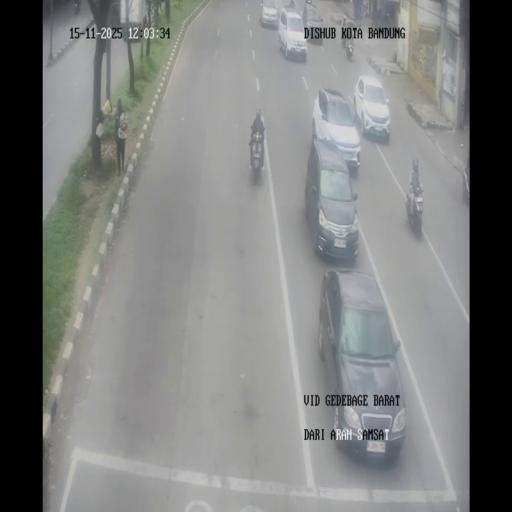car: (319, 269, 404, 459), (305, 136, 358, 262), (353, 74, 391, 142), (278, 4, 307, 62), (302, 2, 323, 42), (259, 0, 279, 27)
truck: (406, 168, 424, 236), (249, 125, 265, 179), (344, 36, 354, 62), (376, 4, 385, 26), (384, 8, 392, 27), (74, 0, 81, 14), (342, 14, 346, 32)
